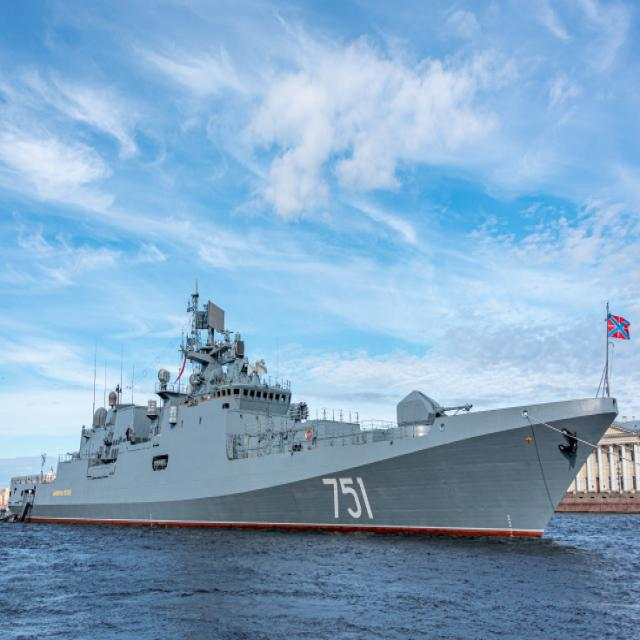Fragata: (6, 285, 626, 557)
